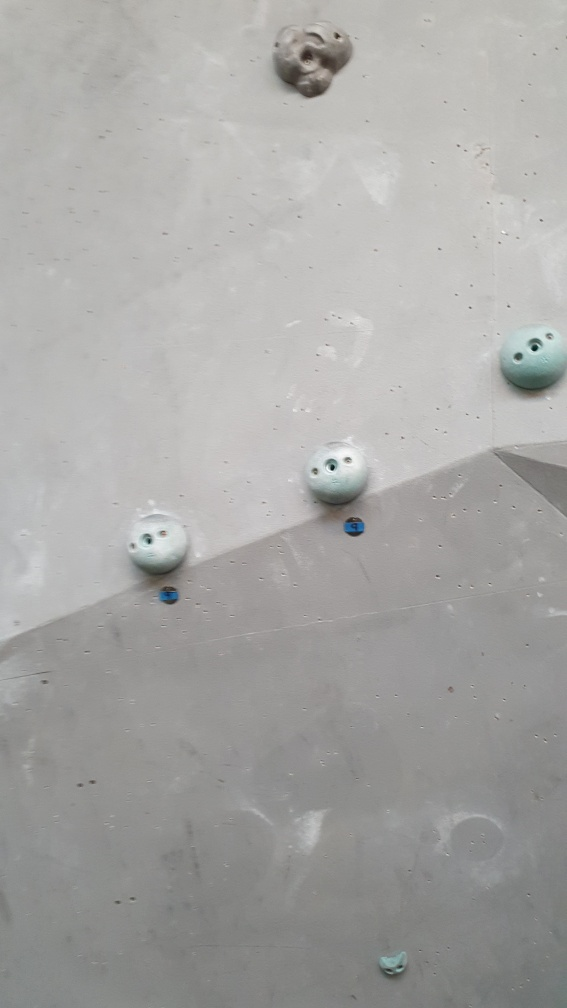Hand Start: (343, 515, 366, 539), (161, 587, 180, 607)
Jug: (273, 18, 357, 98)
Sloper: (497, 320, 567, 390), (304, 438, 372, 505), (127, 514, 192, 573)
